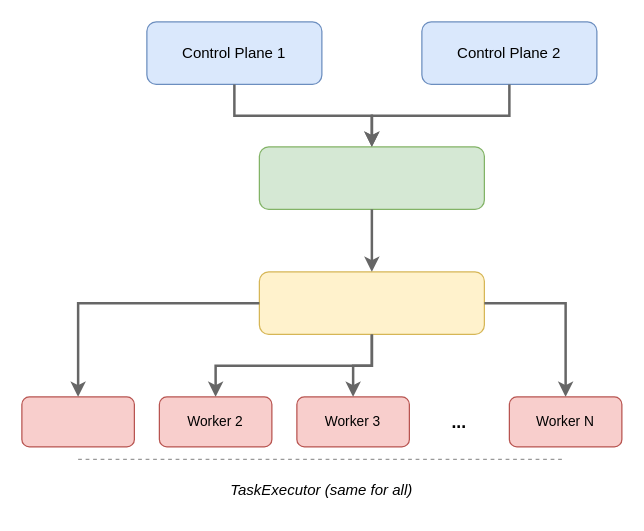
The diagram is 644 pixels wide and 531 high, and some of its shapes have lost their labels. The box of each missing label's shape, as (x1, y1, x2, y2) in pixels:
NATS JetStream: (258, 271, 484, 334)
NatsTaskPublisher (TaskListener): (258, 146, 484, 209)
Worker 1: (21, 396, 134, 447)
